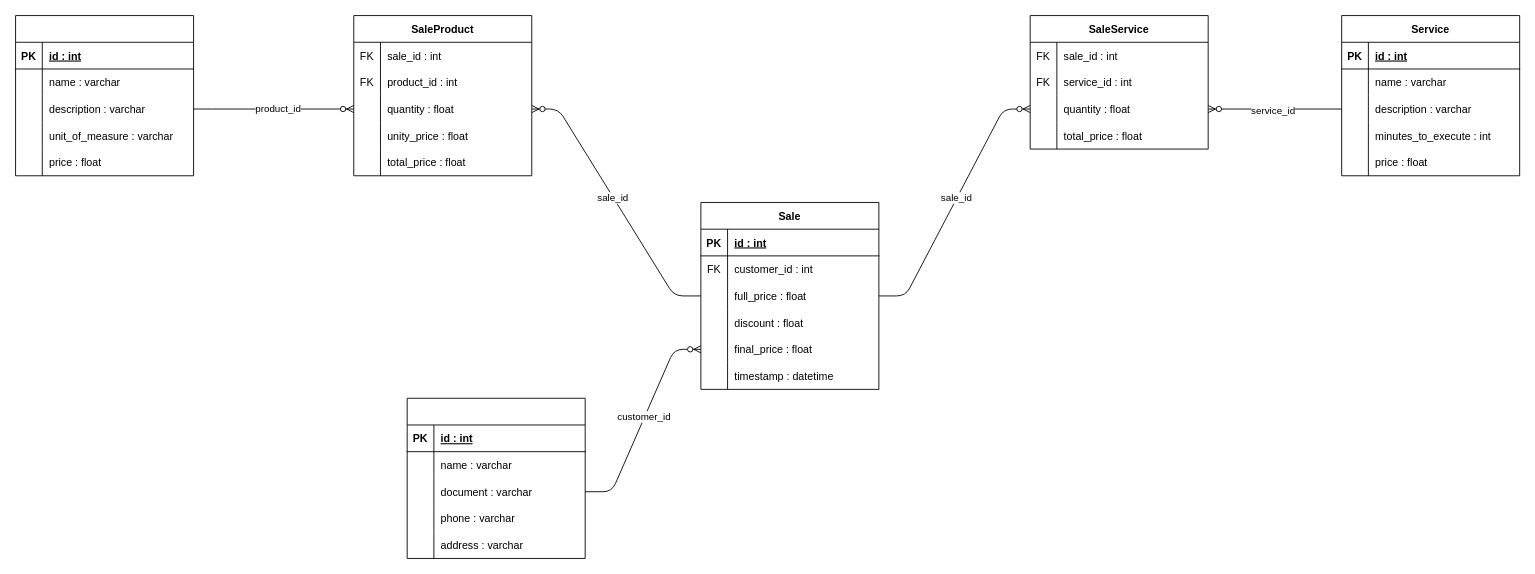
This 1535x574 diagram has some shape labels left out. Here are the shapes that lost their labels. From the top down, the box of each, then its label:
(15, 15, 194, 176): Product
(406, 397, 585, 558): Customer
